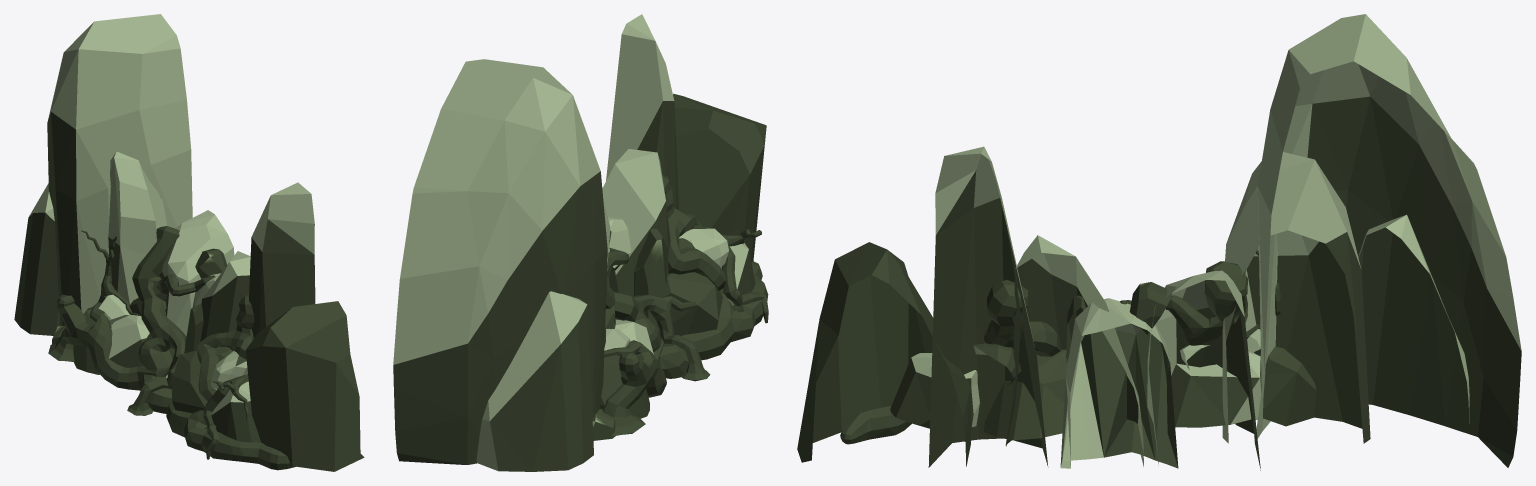
File: EA_Swamp_Wall_01c.glb
3 renders of one model, left to right at view 1: azimuth 30°, elevation 25°; view 2: azimuth 150°, elevation 25°; view 3: azimuth 270°, elevation 25°, orthographic. The views are drawn at different scales.
Parts seen in each view (by area): view 1: EA_Swamp_Wall_01c; view 2: EA_Swamp_Wall_01c; view 3: EA_Swamp_Wall_01c.
Part boxes in pixels (x1,y1,x2,y2): EA_Swamp_Wall_01c: (14,14,364,471); EA_Swamp_Wall_01c: (393,14,768,471); EA_Swamp_Wall_01c: (797,14,1521,470).
Bounding box in the file's own units: 4.48 × 10.51 × 16.03.
Materials: 1 (1 with a texture image).
